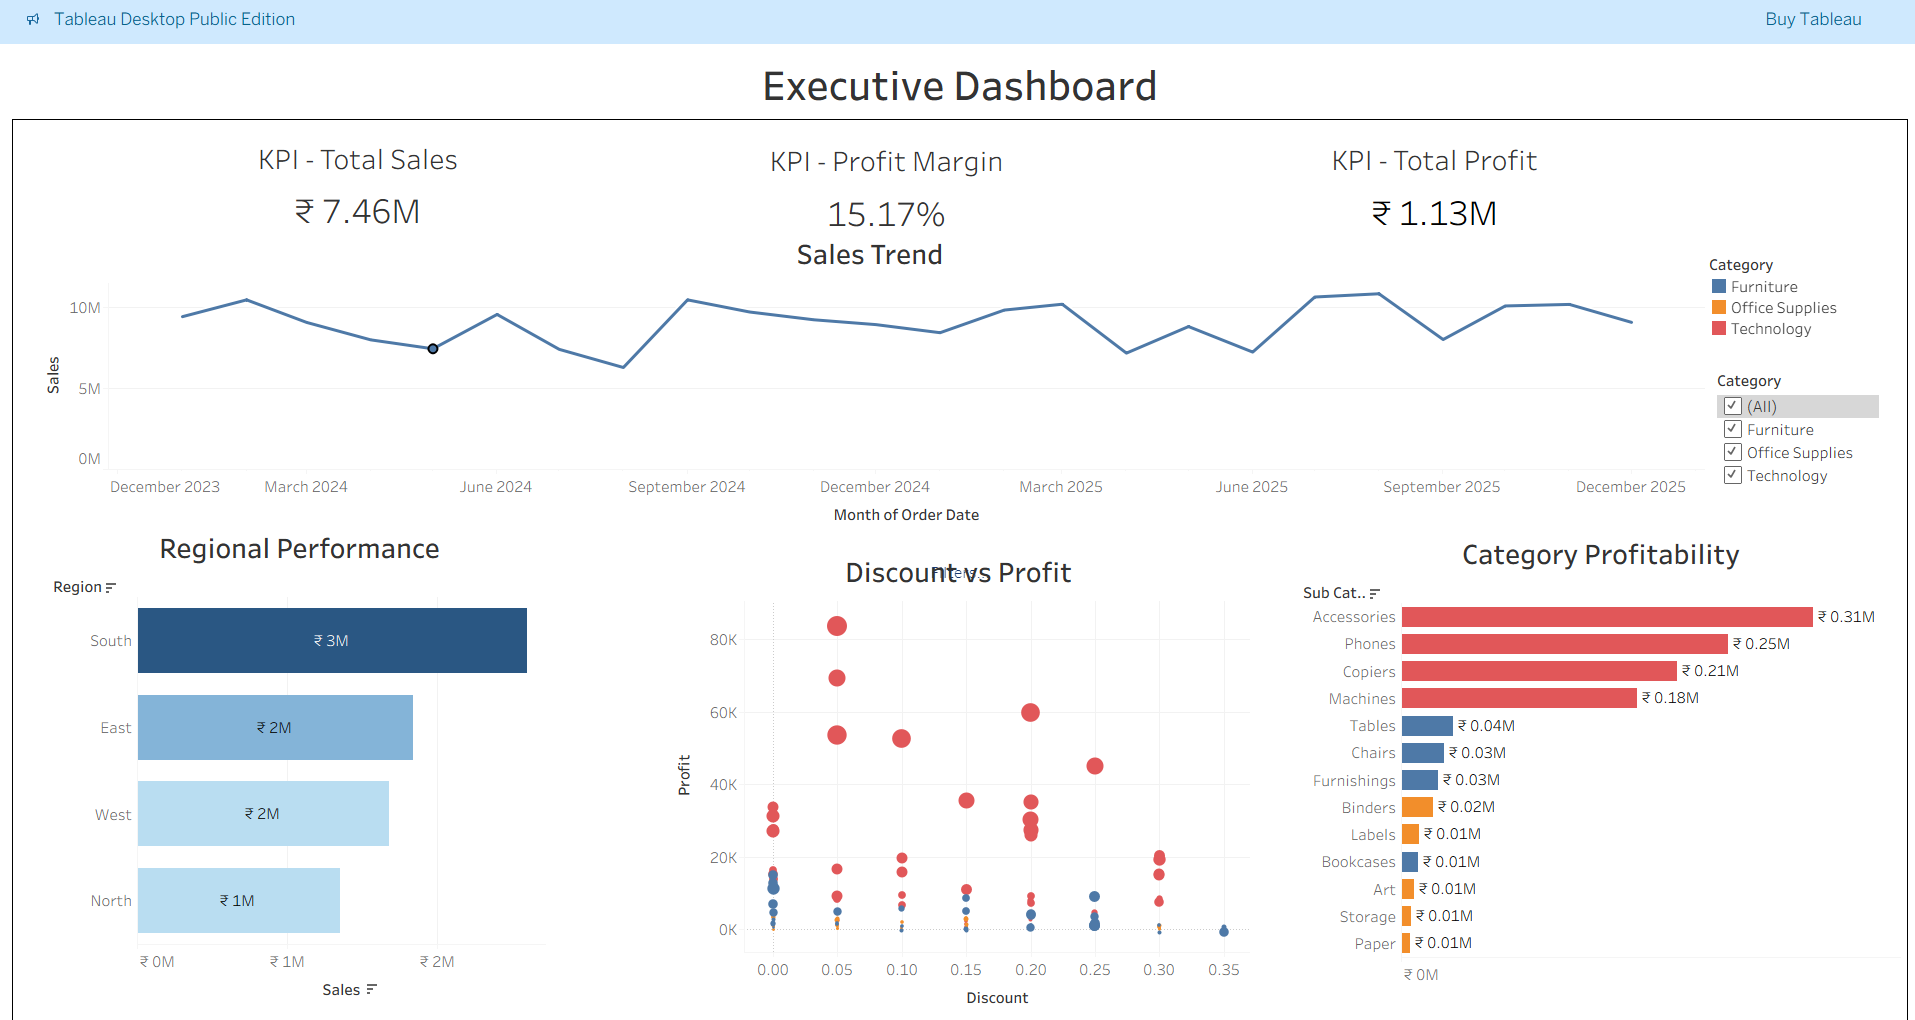

The dashboard page shown, as its layout file describes it:
{"tool":"tableau","page":{"name":"Executive Dashboard","canvas":[1400,900],"ordinal":0},"visuals":[{"type":"title","box":[0,0,19.6,0.4]},{"type":"filter","box":[0,0.4,2.8,7.6]},{"type":"worksheet","title":"KPI Summary","box":[2.8,0.4,16.8,0.9]},{"type":"worksheet","title":"Sales Trend","box":[2.8,1.3,8.4,2.5]},{"type":"worksheet","title":"Regional Performance","box":[11.2,1.3,8.4,2.5]},{"type":"worksheet","title":"Category Profitability","box":[2.8,3.9,5.6,2.2]},{"type":"worksheet","title":"Customer Segment","box":[8.4,3.9,5.6,2.2]},{"type":"worksheet","title":"Discount vs Profit","box":[14,3.9,5.6,2.2]},{"type":"worksheet","title":"Shipping Performance","box":[2.8,6.1,8.4,2]},{"type":"worksheet","title":"Return Analysis","box":[11.2,6.1,8.4,2]}]}

Visuals, with their boxes on the page's 1400x900 design canvas (x1, y1, x2, y2). These are canvas units, not pixel positions in the 1915x1020 screenshot, which may show the page scaled, cropped or inside an application window:
title: bbox(0, 0, 20, 0)
filter: bbox(0, 0, 3, 8)
"KPI Summary" worksheet: bbox(3, 0, 20, 1)
"Sales Trend" worksheet: bbox(3, 1, 11, 4)
"Regional Performance" worksheet: bbox(11, 1, 20, 4)
"Category Profitability" worksheet: bbox(3, 4, 8, 6)
"Customer Segment" worksheet: bbox(8, 4, 14, 6)
"Discount vs Profit" worksheet: bbox(14, 4, 20, 6)
"Shipping Performance" worksheet: bbox(3, 6, 11, 8)
"Return Analysis" worksheet: bbox(11, 6, 20, 8)
